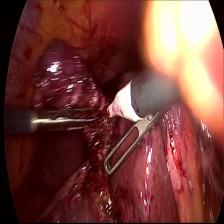Grasper: (37, 99, 101, 145), (101, 126, 148, 188)
Hook: (104, 74, 139, 125)
